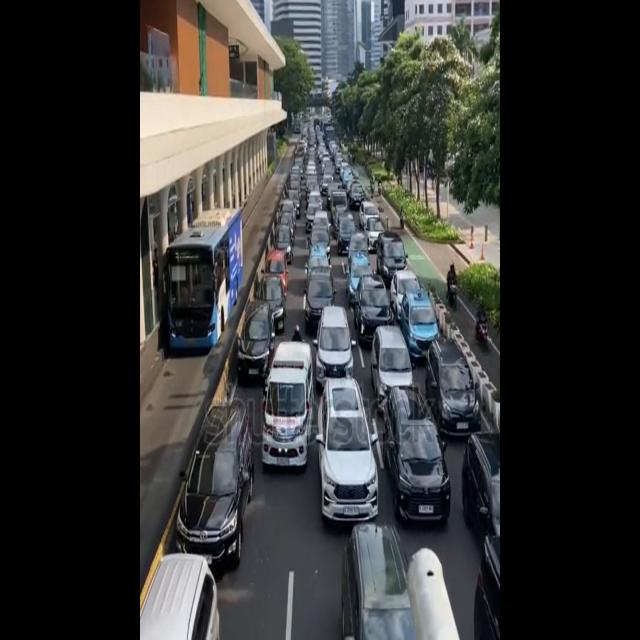Ambulance: (257, 332, 317, 472)
